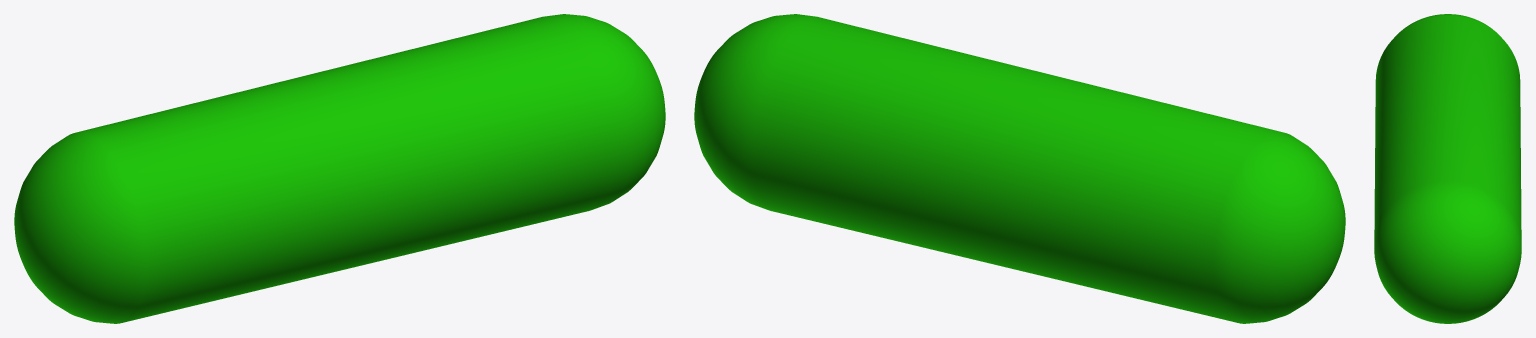
Rendered from AndroidArmLeft.fbx.
The picture shows the model from 3 angles, left to right: view 1: azimuth 30°, elevation 25°; view 2: azimuth 150°, elevation 25°; view 3: azimuth 270°, elevation 25°; orthographic projection. The views are drawn at different scales.
Parts seen in each view (by area): view 1: AndroidArmLeft; view 2: AndroidArmLeft; view 3: AndroidArmLeft.
Part boxes in pixels (box(x1,y1,x2,y2)): AndroidArmLeft: box(14, 14, 665, 323); AndroidArmLeft: box(694, 14, 1345, 323); AndroidArmLeft: box(1374, 14, 1521, 323).
Size of the model in its own units: 55.32 by 15.32 by 15.32.
Materials: 1 (1 with a texture image).
